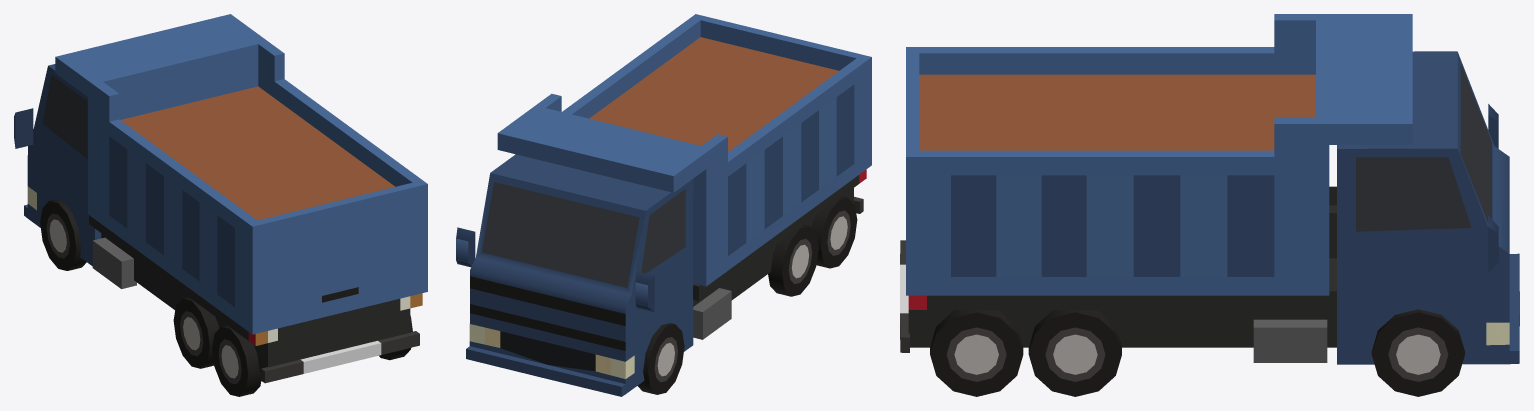
The model's file is Truck001.fbx.
3 renders of one model, left to right at view 1: azimuth 30°, elevation 25°; view 2: azimuth 150°, elevation 25°; view 3: azimuth 270°, elevation 25°, orthographic. The views are drawn at different scales.
Parts seen in each view (by area): view 1: Trunk001; view 2: Trunk001; view 3: Trunk001.
Part boxes in pixels (<box>): Trunk001: <box>14,14,427,396</box>; Trunk001: <box>456,14,871,396</box>; Trunk001: <box>900,14,1519,396</box>.
Size of the model in its own units: 327 by 342 by 696.
